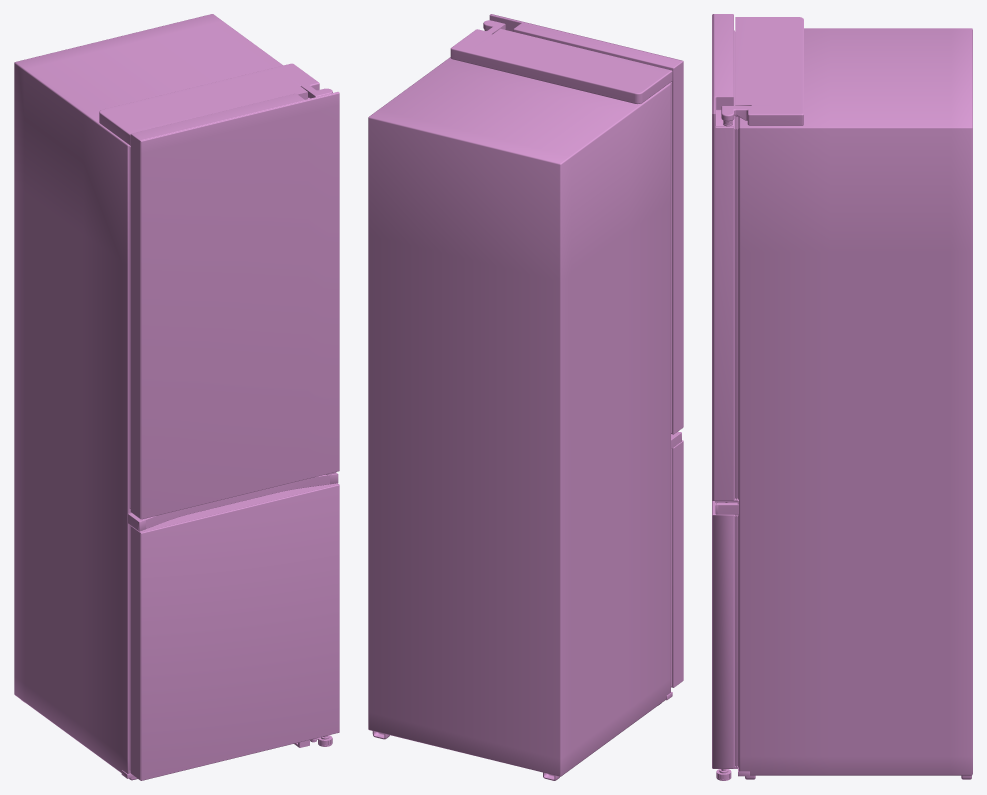
The model's file is bespoke.glb.
The picture shows the model from 3 angles, left to right: view 1: azimuth 30°, elevation 25°; view 2: azimuth 150°, elevation 25°; view 3: azimuth 270°, elevation 25°; orthographic projection. The views are drawn at different scales.
Parts seen in each view (by area): view 1: MM_Object_Bespoke_Fridge_Freezer__Glass__in_Clean_White___G; view 2: MM_Object_Bespoke_Fridge_Freezer__Glass__in_Clean_White___G; view 3: MM_Object_Bespoke_Fridge_Freezer__Glass__in_Clean_White___G.
Part boxes in pixels (bbox=[...]): MM_Object_Bespoke_Fridge_Freezer__Glass__in_Clean_White___G: bbox=[14, 14, 339, 780]; MM_Object_Bespoke_Fridge_Freezer__Glass__in_Clean_White___G: bbox=[368, 14, 683, 780]; MM_Object_Bespoke_Fridge_Freezer__Glass__in_Clean_White___G: bbox=[712, 14, 972, 780].
Size of the model in its own units: 5.43 by 16.88 by 5.96.
